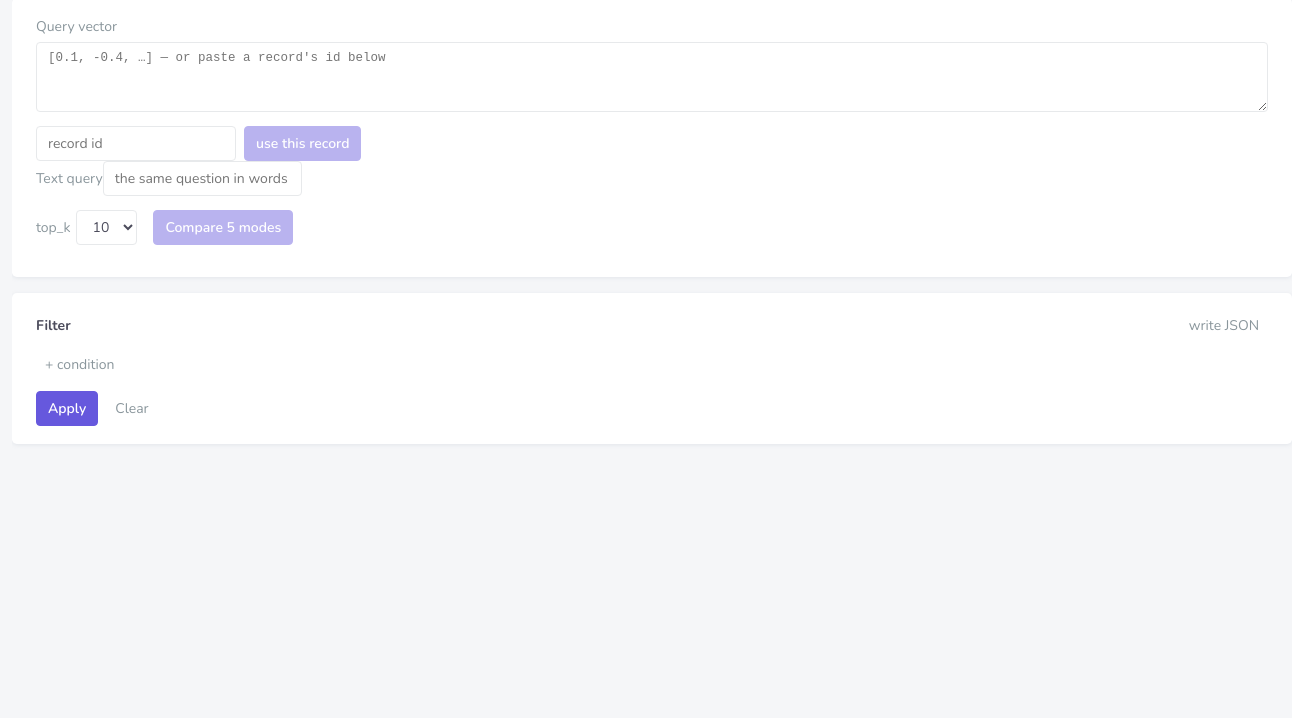
Test case: BM25 and hybrid beside the dense modes › reads the BM25 timing from took_ms, not tookms
Click the text box labelled "Query vector" at (652, 77), box [36,42,1268,112]
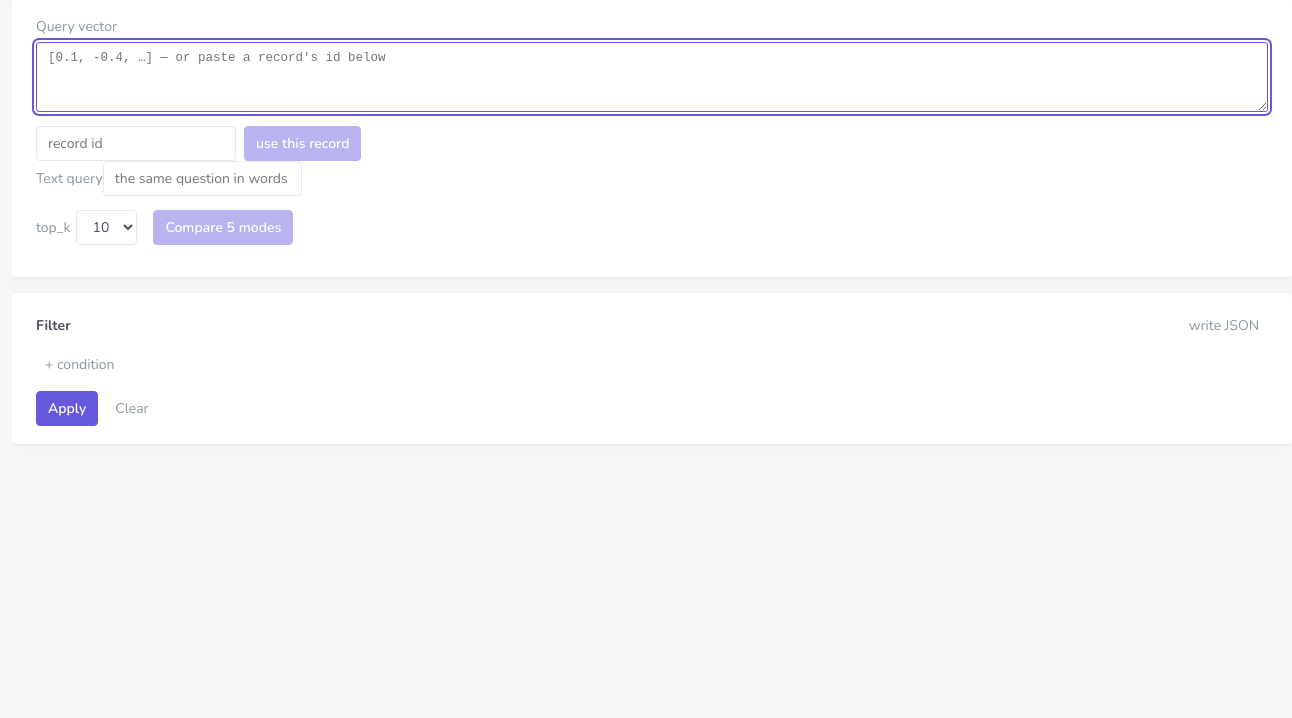
Type keys "[1, 0, 0, 0]"
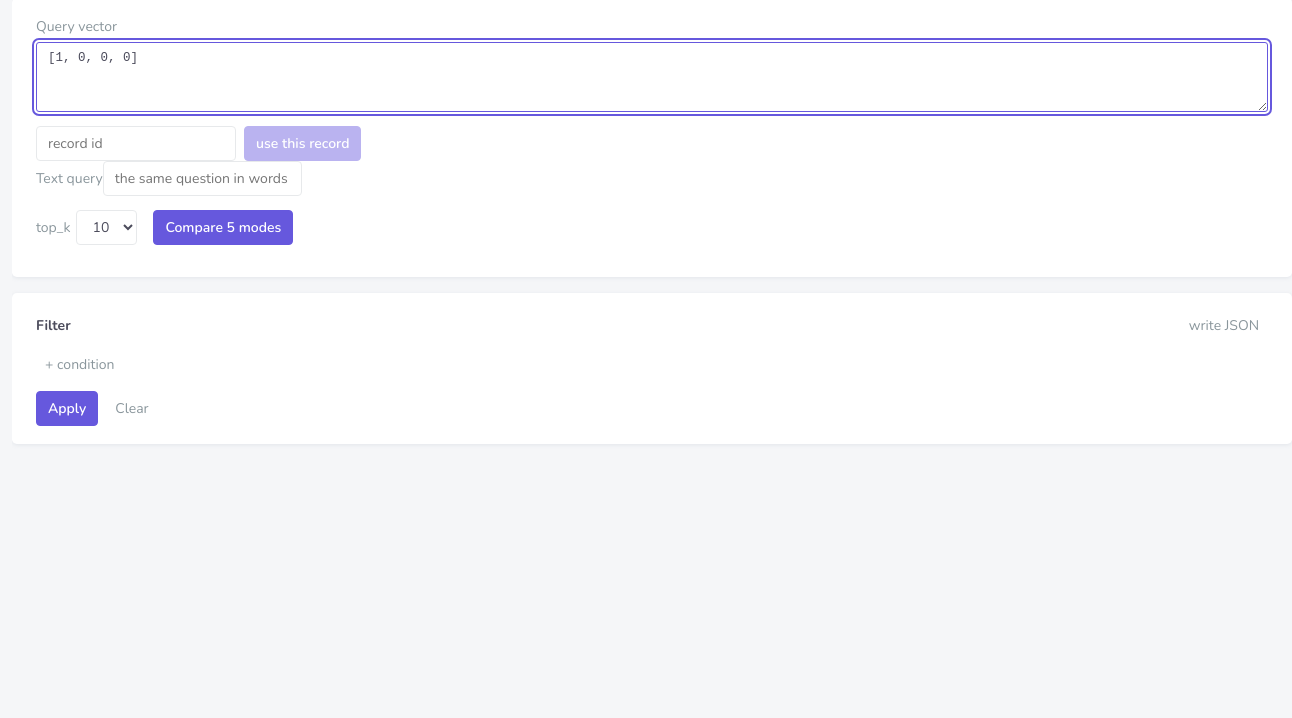
Click the field labelled "Text query" at (202, 179), box [103,161,302,196]
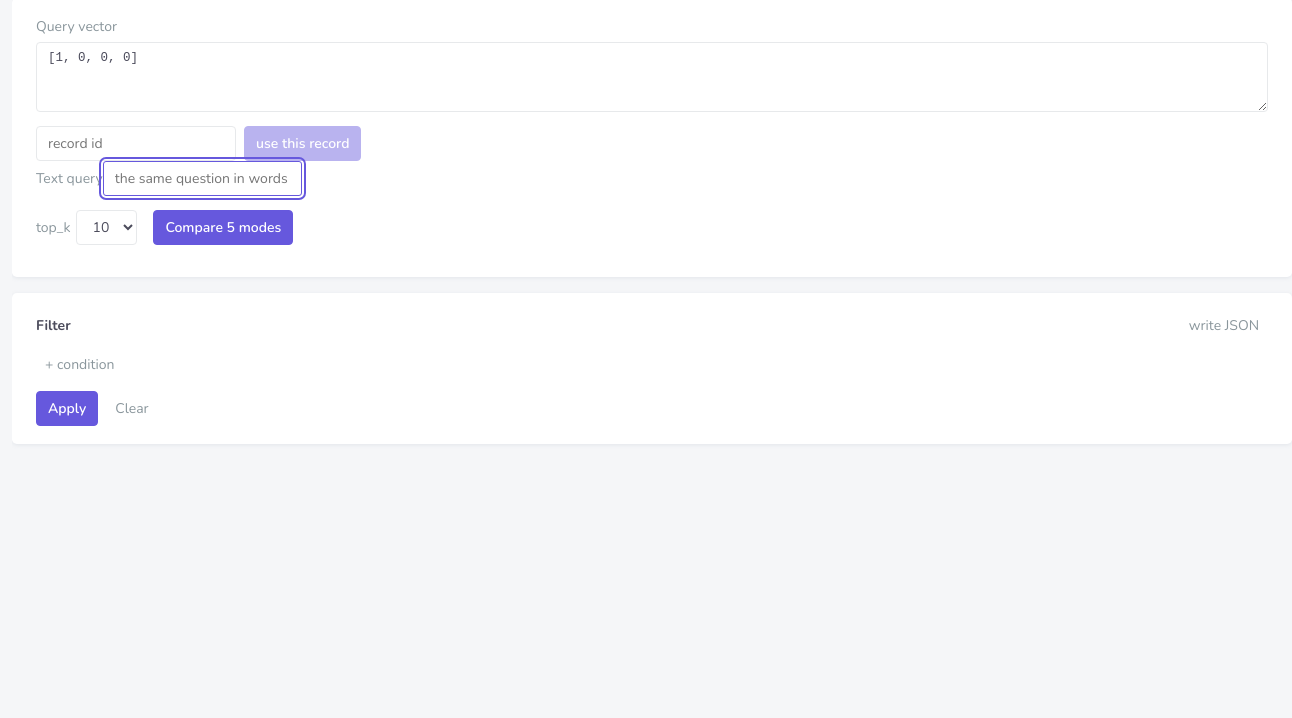
Type keys "quasar"
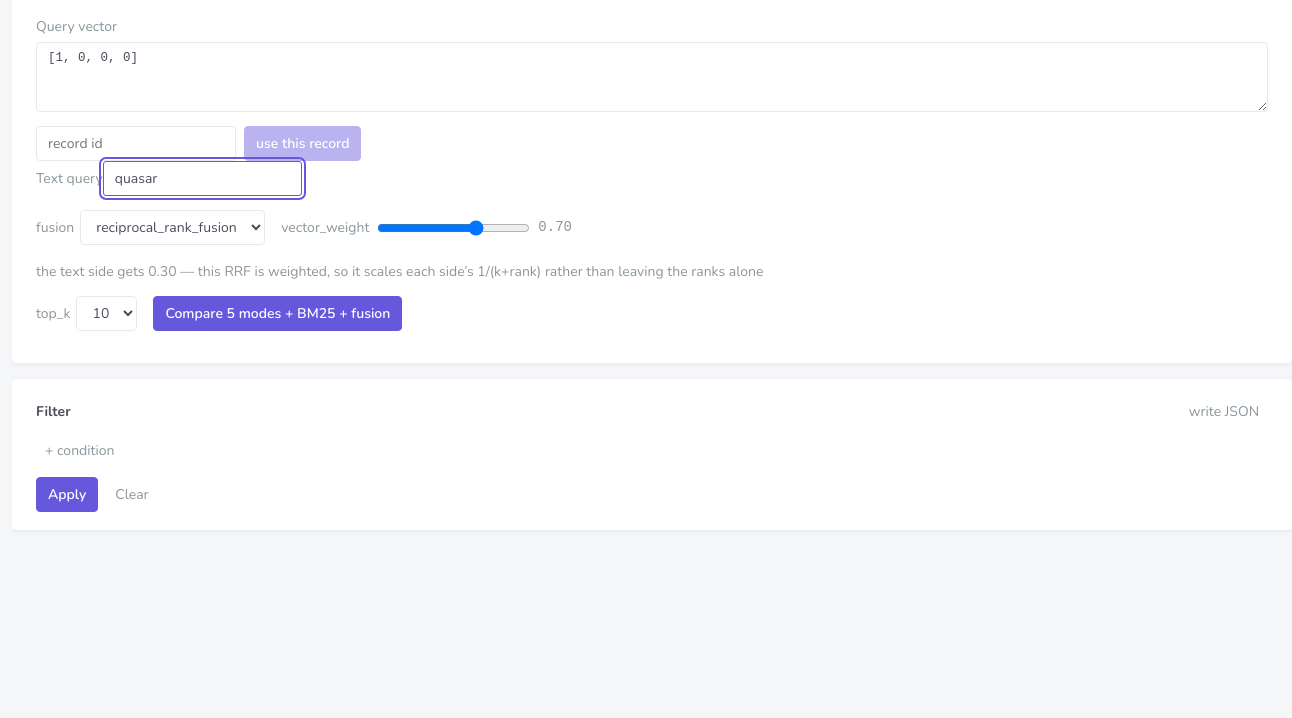
Click the button "Compare 5 modes + BM25 + fusion" at (278, 314), box [154,296,402,331]
(page scrolled)
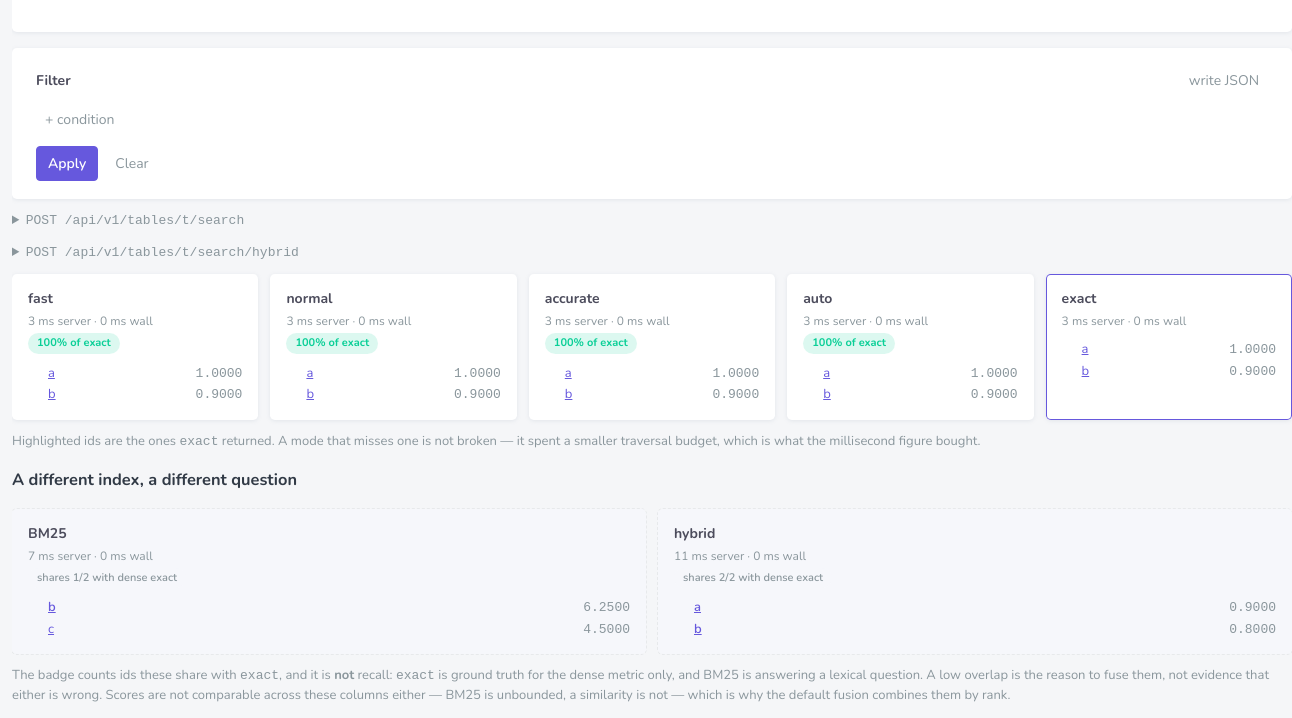
Expected: the text "BM25" is shown, [28,524,67,543]
Expected: the text "7 ms server · 0 ms wall" is shown, [28,548,153,564]
